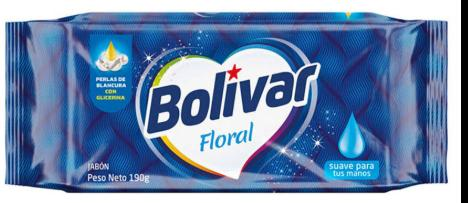brand: (141, 41, 330, 143)
net_weight: (128, 172, 156, 183)
product_name: (197, 119, 264, 156)
